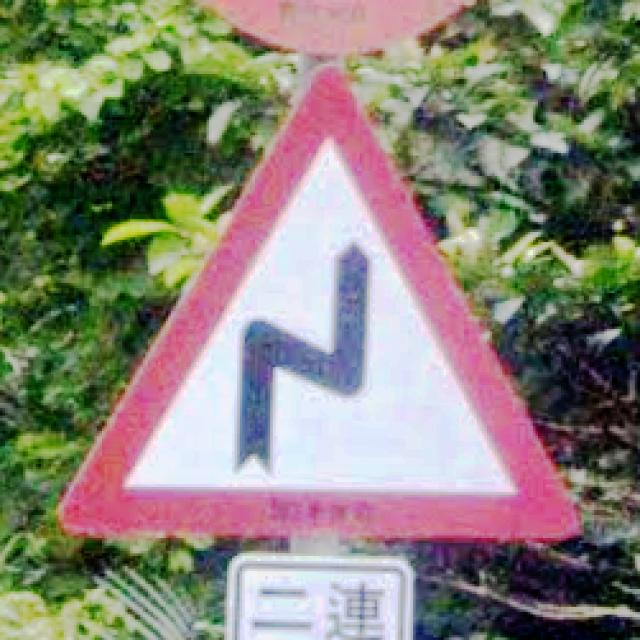doublebendright: (61, 66, 579, 538)
